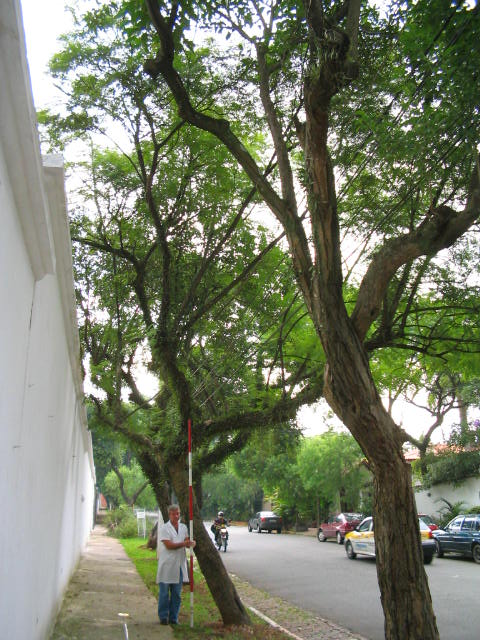stem: (311, 350, 465, 638), (168, 465, 259, 619)
stick: (177, 420, 201, 626)
tree: (37, 4, 477, 621)
